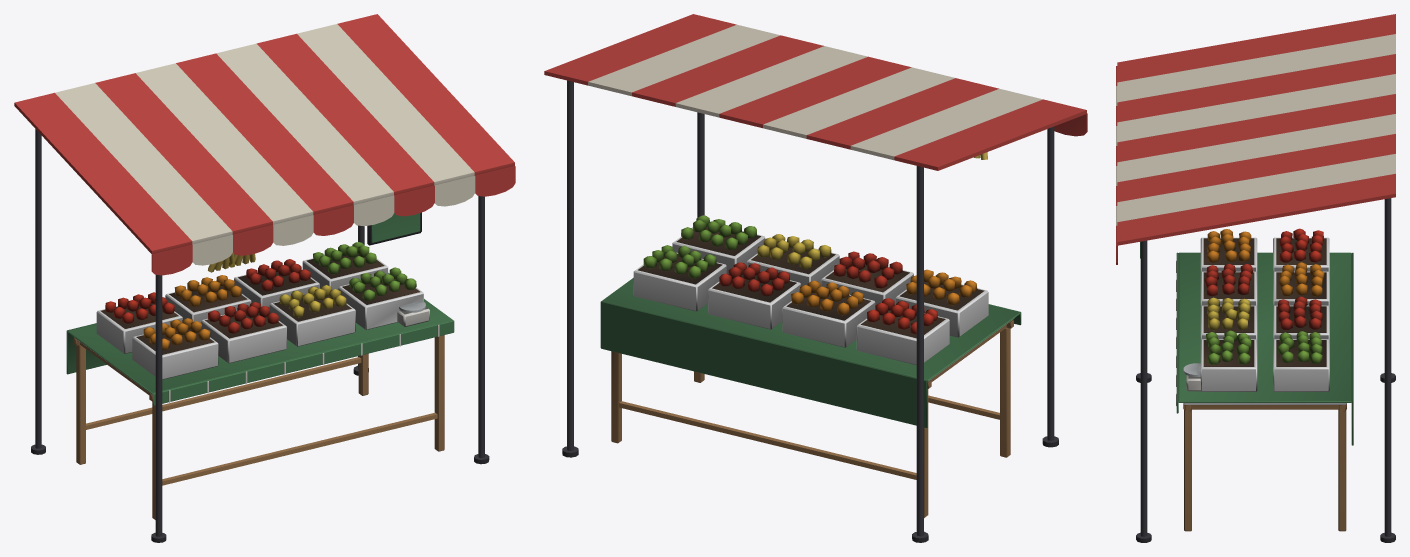
Rendered from StallAwning.fbx.
3 renders of one model, left to right at view 1: azimuth 30°, elevation 25°; view 2: azimuth 150°, elevation 25°; view 3: azimuth 270°, elevation 25°, orthographic. The views are drawn at different scales.
Parts seen in each view (by area): view 1: StallAwning; view 2: StallAwning; view 3: StallAwning.
Part boxes in pixels (x1=…): StallAwning: x1=14, y1=14, x2=515, y2=542; StallAwning: x1=544, y1=14, x2=1087, y2=542; StallAwning: x1=1116, y1=14, x2=1395, y2=542.
Bounding box in the file's own units: 2.7 × 2.5 × 1.78.
